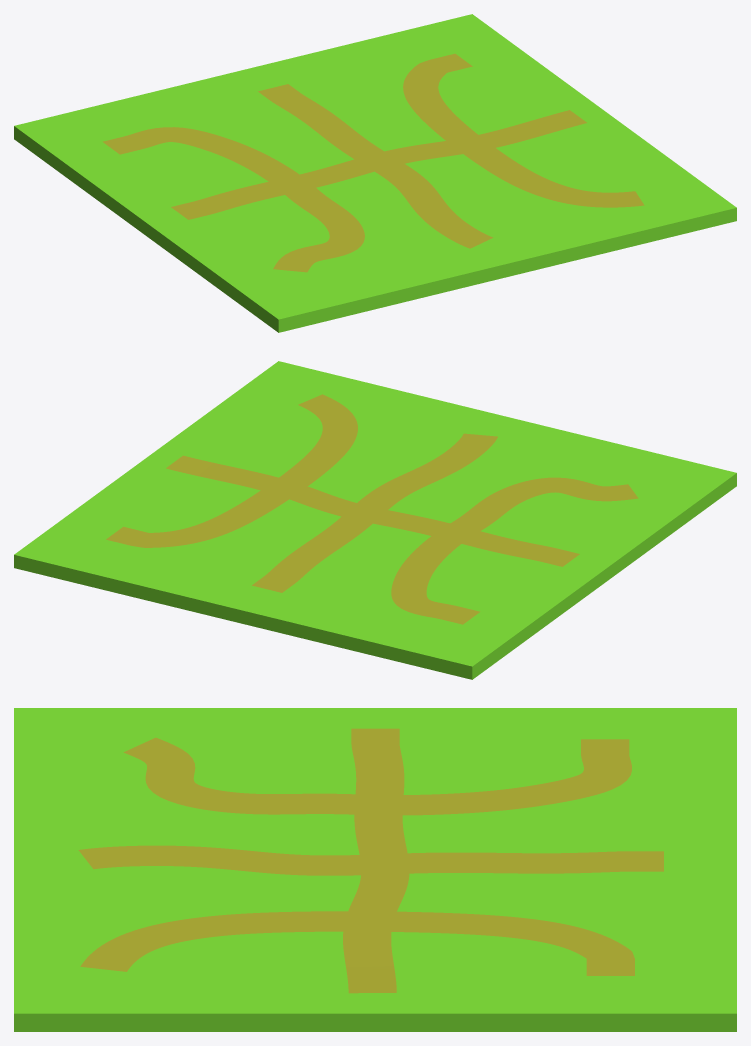
File: Farm_Base.fbx
3 renders of one model, top to bottom at view 1: azimuth 30°, elevation 25°; view 2: azimuth 150°, elevation 25°; view 3: azimuth 270°, elevation 25°, orthographic. The views are drawn at different scales.
Parts seen in each view (by area): view 1: Cube, Road.001, Road.002, Road, Road.003; view 2: Cube, Road.001, Road.002, Road, Road.003; view 3: Cube, Road.001, Road.002, Road.003, Road.
Boxes of the visible parts, <box> form: Cube: <box>14,14,736,332</box>; Road.001: <box>102,127,364,272</box>; Road.002: <box>403,53,644,207</box>; Road: <box>171,110,586,219</box>; Road.003: <box>258,84,493,248</box>; Cube: <box>14,361,736,679</box>; Road.001: <box>391,477,638,624</box>; Road.002: <box>106,394,357,547</box>; Road: <box>166,455,579,566</box>; Road.003: <box>252,433,497,592</box>; Cube: <box>14,708,736,1031</box>; Road.001: <box>123,737,631,815</box>; Road.002: <box>80,911,634,975</box>; Road.003: <box>78,845,663,875</box>; Road: <box>343,728,409,993</box>.
Bounding box in the file's own units: 7200 × 227 × 7200.
